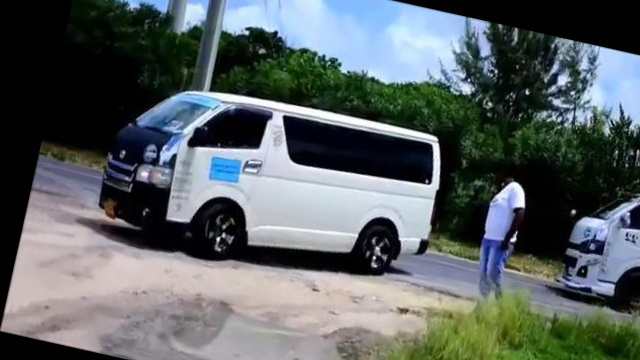van: (84, 60, 449, 298)
